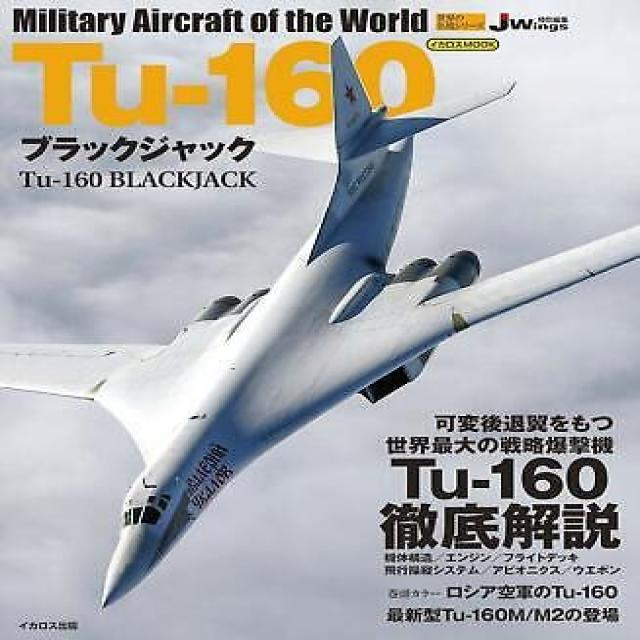Tu160: (0, 19, 640, 640)
